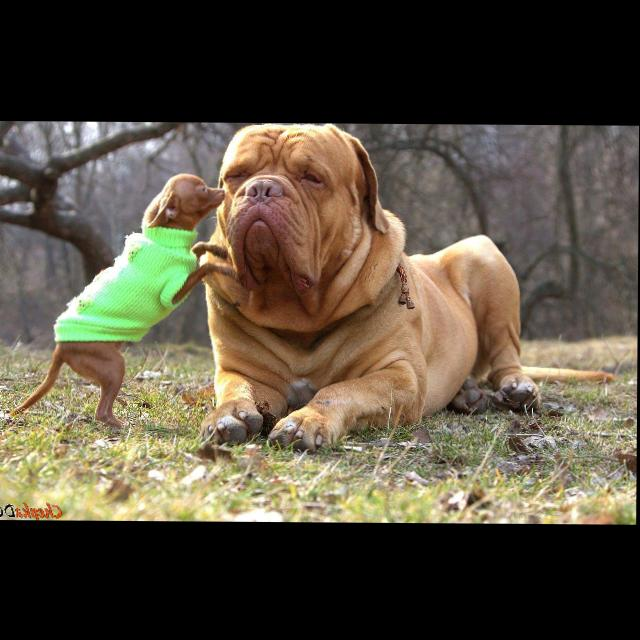dogue_de_bordeaux: (175, 123, 620, 456)
other_dog_breed: (10, 171, 231, 431)
